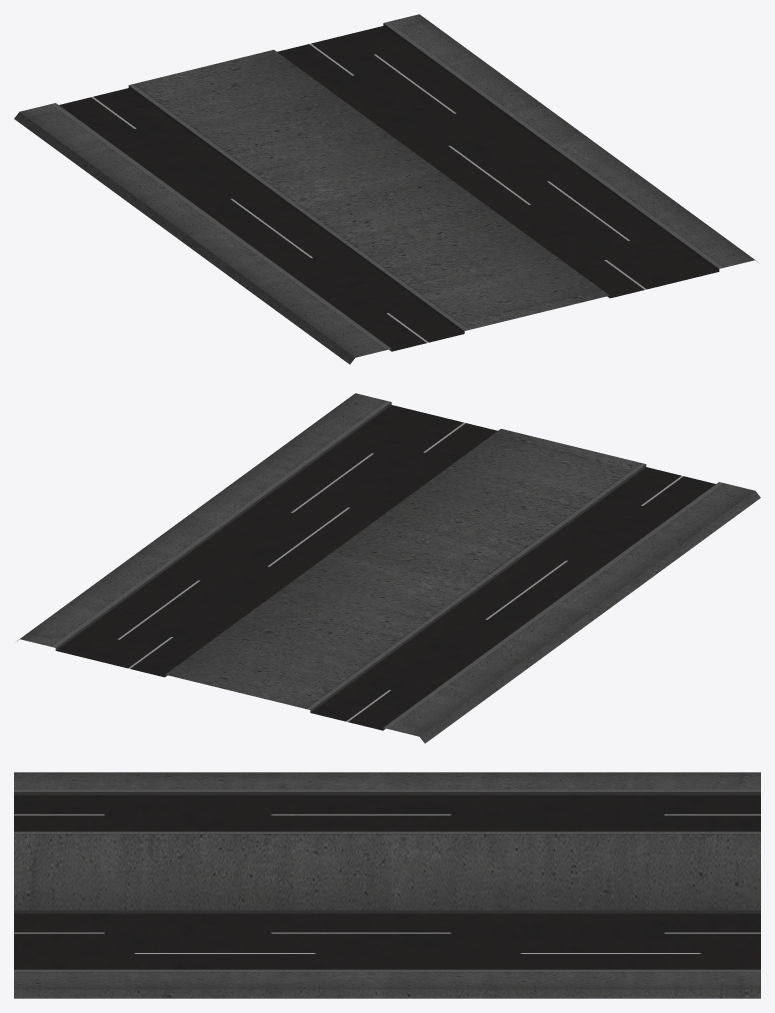
File: RJs_Road Pass 2+4+2 Basic Segment_L_lod.fbx
3 renders of one model, top to bottom at view 1: azimuth 30°, elevation 25°; view 2: azimuth 150°, elevation 25°; view 3: azimuth 270°, elevation 25°, orthographic. The views are drawn at different scales.
Visible parts, largest first — view 1: plane_lod; view 2: plane_lod; view 3: plane_lod.
Boxes of the visible parts, box(x1,y1,x2,y2) form: plane_lod: box(14, 14, 757, 364); plane_lod: box(17, 393, 760, 743); plane_lod: box(14, 772, 760, 998).
Bounding box in the file's own units: 4520 × 60.1 × 6400.
